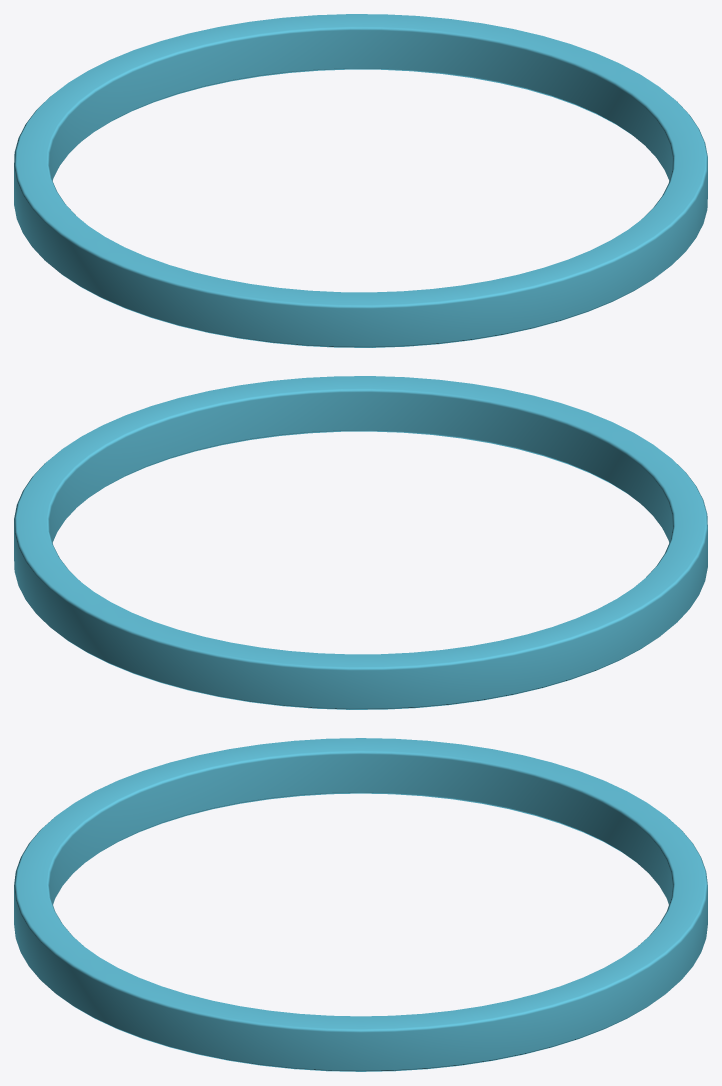
3 views of the same model, one above another, from view 1: azimuth 30°, elevation 25°; view 2: azimuth 150°, elevation 25°; view 3: azimuth 270°, elevation 25° (orthographic).
Parts seen in each view (by area): view 1: seal_body; view 2: seal_body; view 3: seal_body.
Part boxes in pixels (left/top/right/bottom): seal_body: left=14, top=14, right=707, bottom=347; seal_body: left=14, top=376, right=707, bottom=709; seal_body: left=14, top=738, right=707, bottom=1071.
Bounding box in the file's own units: 0.098 × 0.0067 × 0.098.
